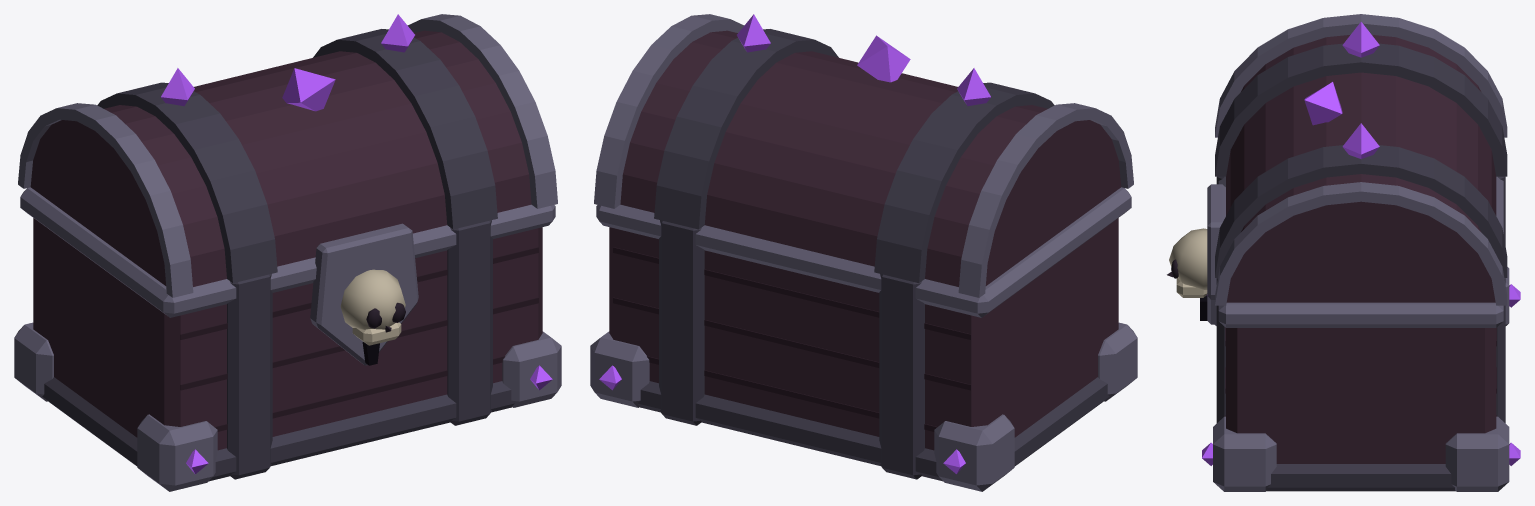
File: chest.fbx
3 renders of one model, left to right at view 1: azimuth 30°, elevation 25°; view 2: azimuth 150°, elevation 25°; view 3: azimuth 270°, elevation 25°, orthographic. The views are drawn at different scales.
Visible parts, largest first — view 1: chest, Lid; view 2: chest, Lid; view 3: Lid, chest.
Boxes of the visible parts, bbox=[...] form: chest: bbox=[14, 187, 561, 491]; Lid: bbox=[18, 14, 557, 297]; chest: bbox=[590, 187, 1137, 491]; Lid: bbox=[594, 14, 1133, 297]; Lid: bbox=[1215, 14, 1507, 305]; chest: bbox=[1167, 176, 1520, 491].
Size of the model in its own units: 1.17 by 0.986 by 0.9437.
